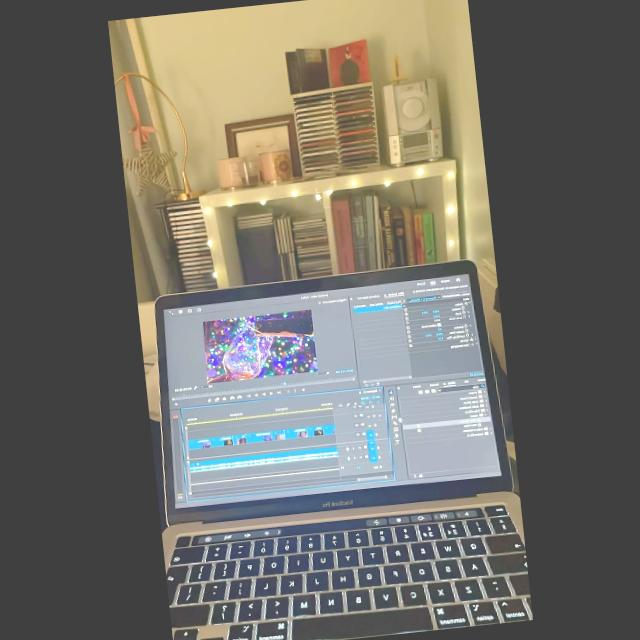laptop: (135, 253, 518, 640)
